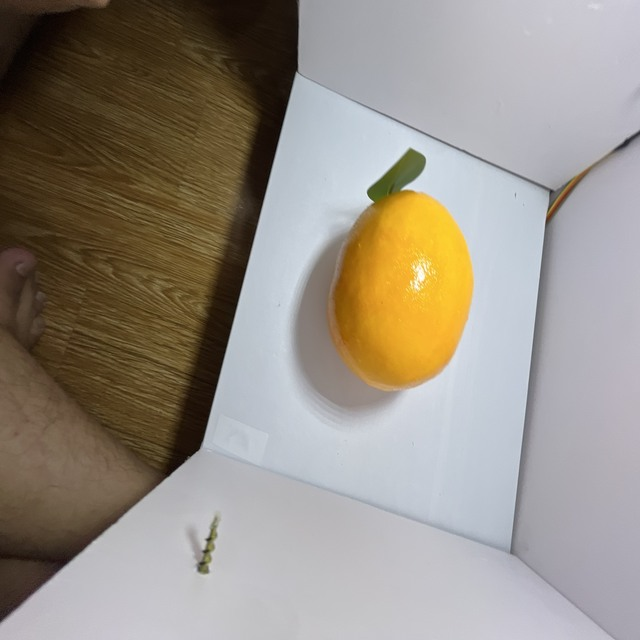Cam vang: (330, 187, 476, 390)
